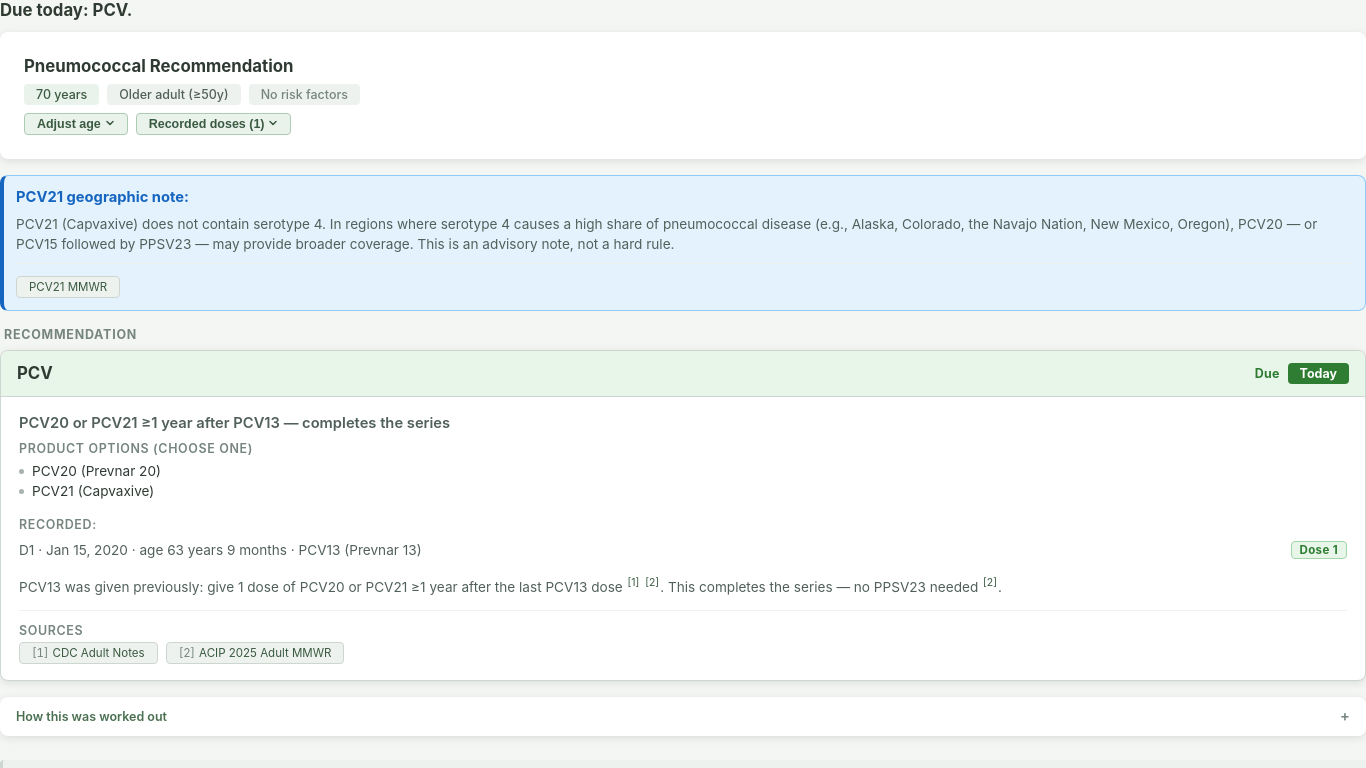
Test: P6-6 — a toggle keeps its label when open › "Adjust age" still says "Adjust age" once open
Click the button "Adjust age" at {"x": 76, "y": 124}, box [24,113,128,135]
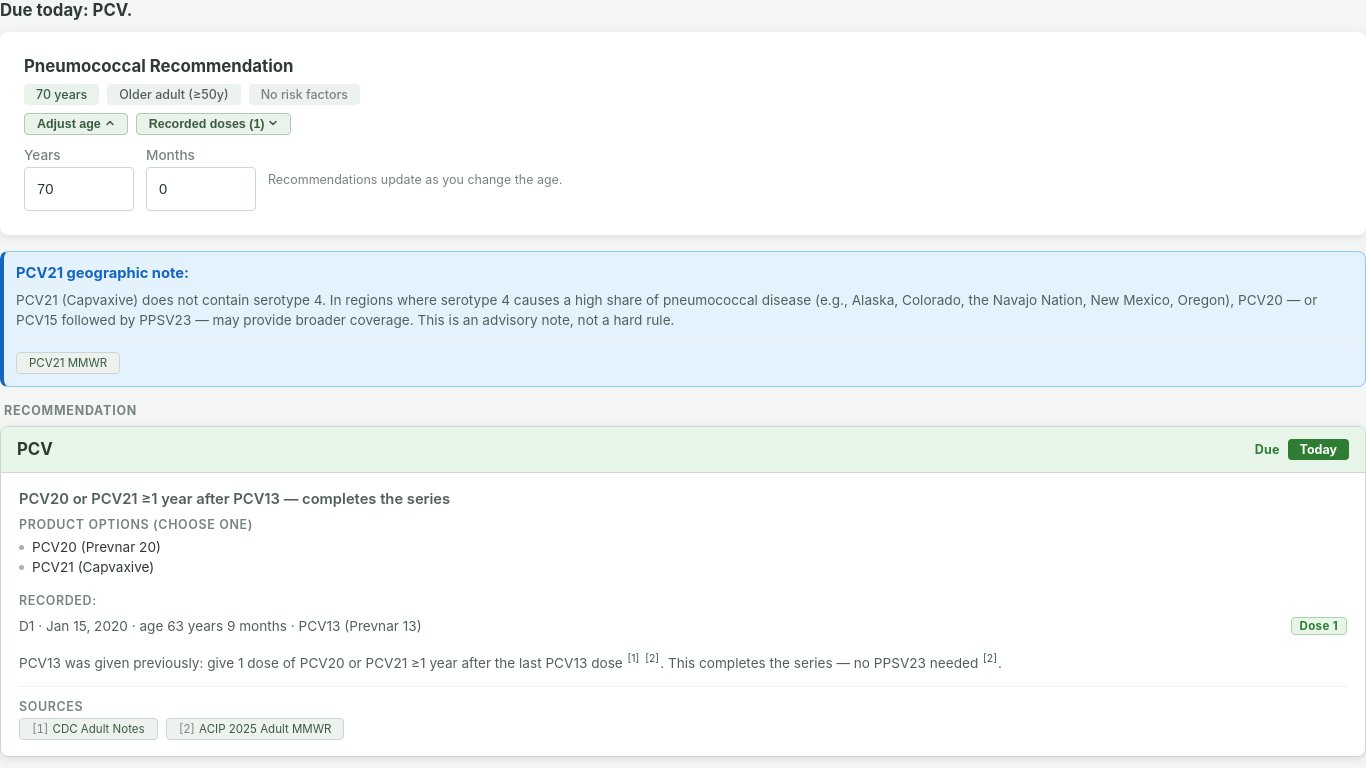
Now the button "Adjust age" is expanded, box [24,113,128,135]
